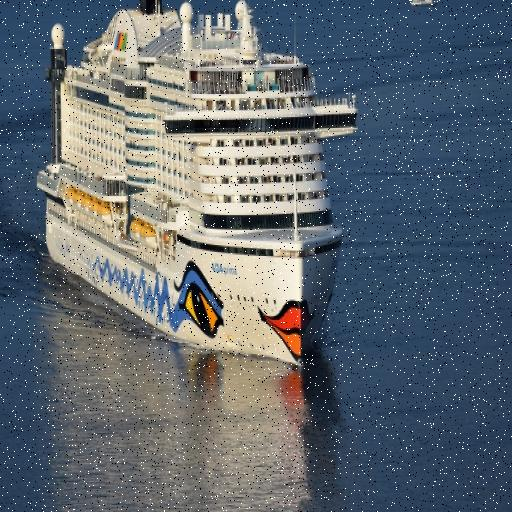cruises: (39, 1, 351, 385)
